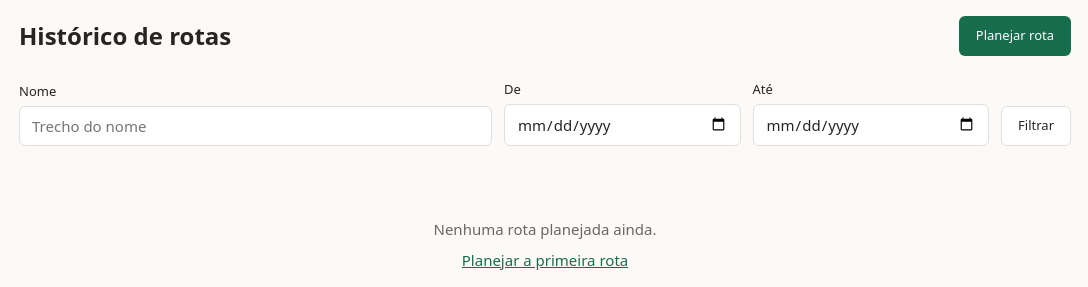
HistoryPage › envia filtros de nome e período
Expected: the text "Nenhuma rota planejada ainda." is shown, 434,218 -> 656,240
Type "manhã" into the field labelled "Nome" at point(256, 126), box 19,106 -> 492,146
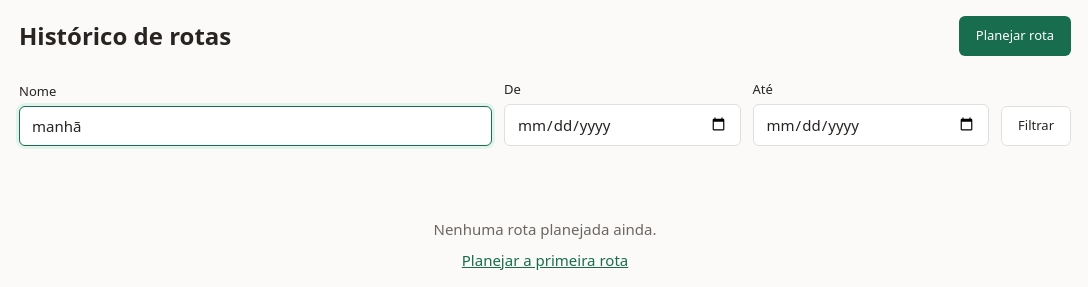
Type "2026-10-01" into the date field labelled "De" at point(622, 125), box 504,104 -> 740,146
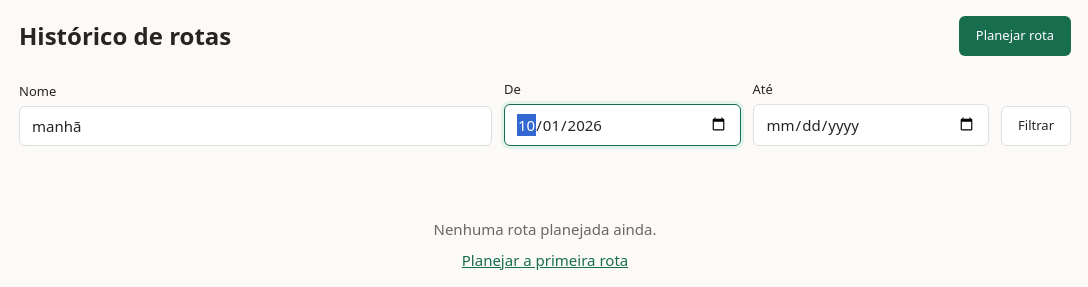
Type "2026-10-31" into the date field labelled "Até" at point(871, 125), box 752,104 -> 989,146
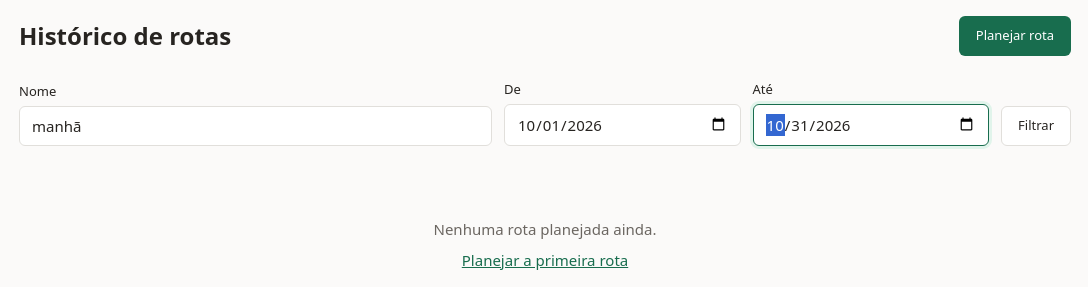
Click the button "Filtrar" at point(1036, 126), box 1001,106 -> 1071,146
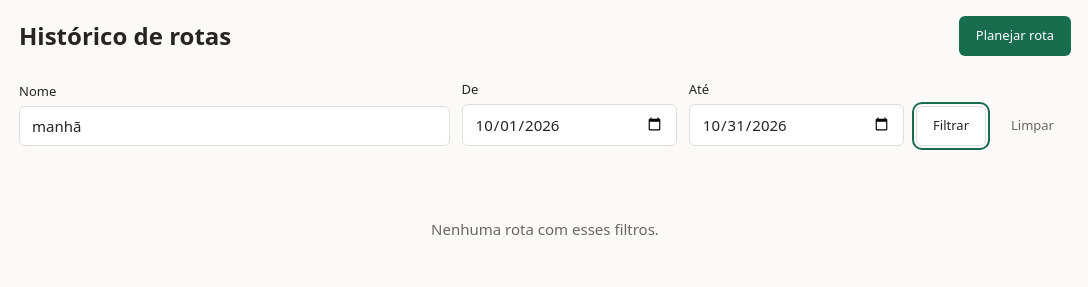
Expected: the text "Nenhuma rota com esses filtros." is shown, 431,218 -> 659,240
